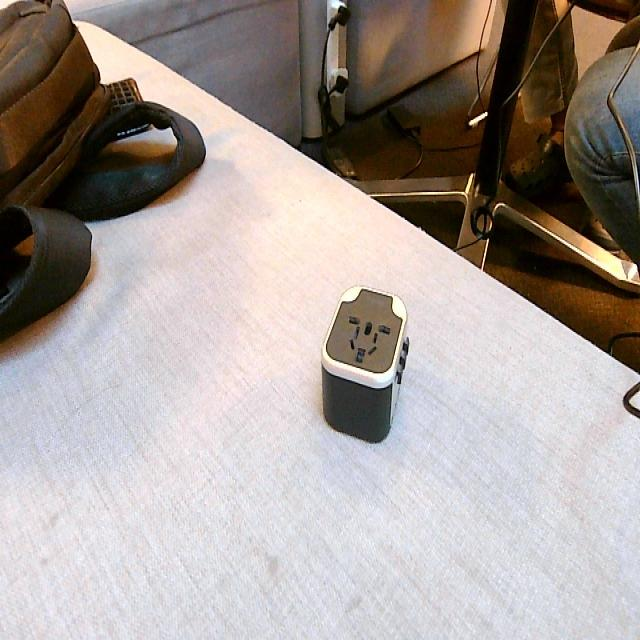adapter: (319, 284, 410, 443)
